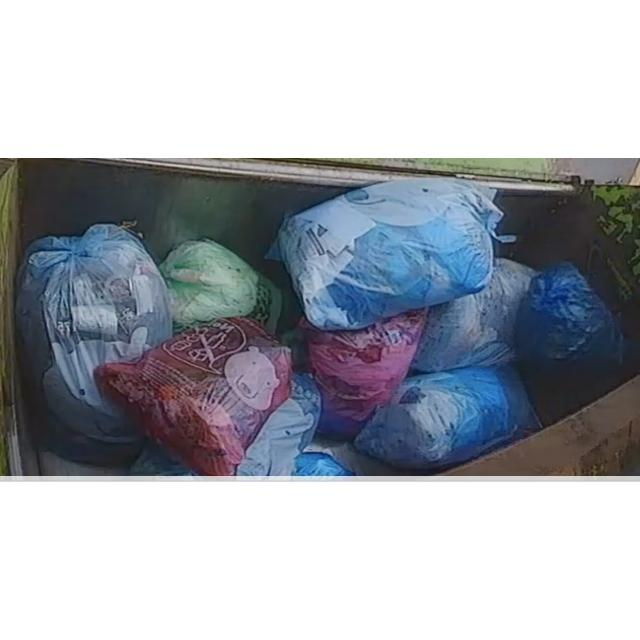other_trashbag: (16, 224, 172, 466), (266, 178, 504, 330), (95, 318, 291, 476), (354, 364, 540, 469), (515, 262, 624, 426), (300, 308, 428, 440), (411, 258, 535, 372), (159, 239, 282, 333), (236, 373, 321, 477)
